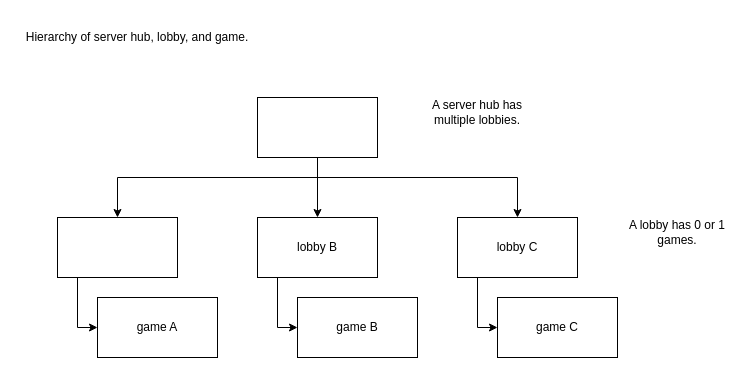
This 754x375 diagram has some shape labels left out. Here are the shapes that lost their labels. From the top down, the box of each, then its label:
(256, 96, 378, 158): server hub
(56, 216, 178, 278): lobby A
